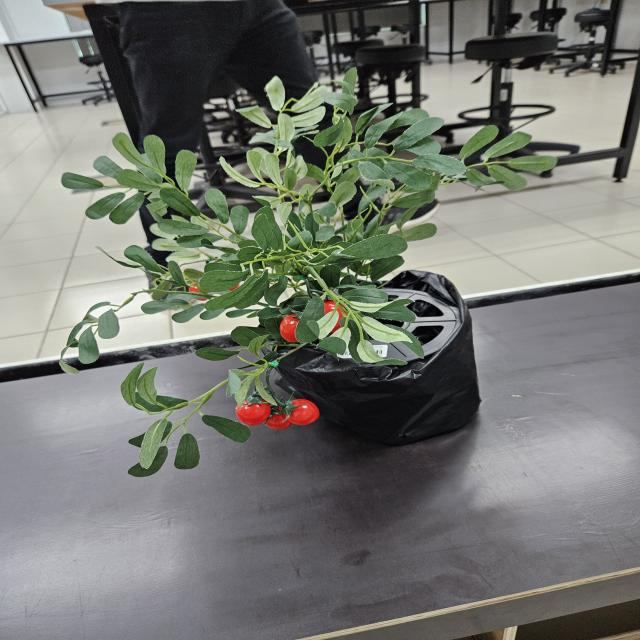Tomato: (272, 299, 352, 343), (235, 398, 321, 427)
plant: (54, 71, 565, 476)
